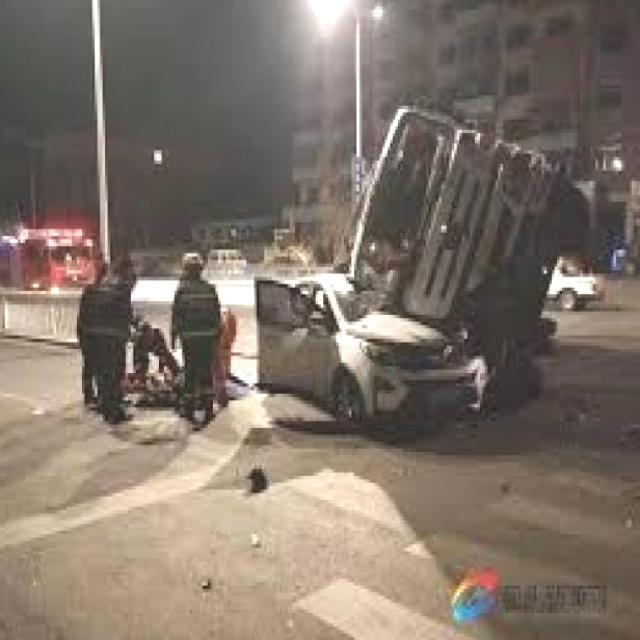accident: (297, 111, 605, 455)
